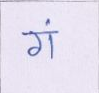anusvara: (45, 19, 51, 25)
